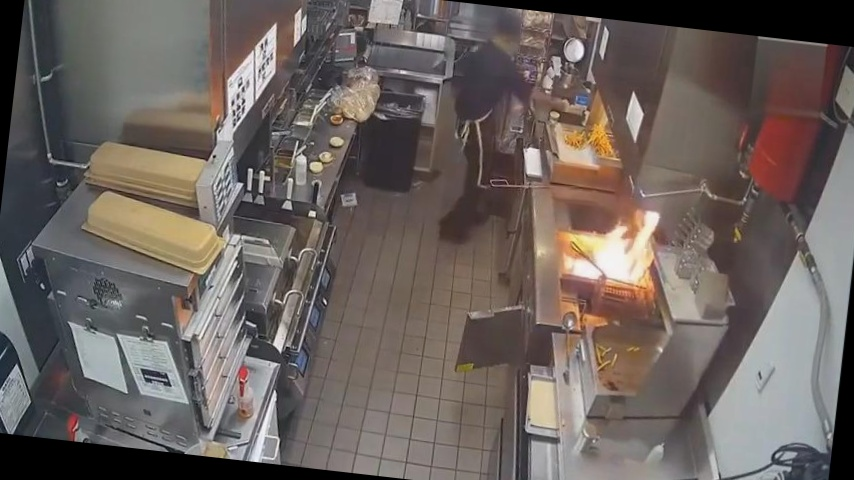fire: (558, 184, 672, 302)
